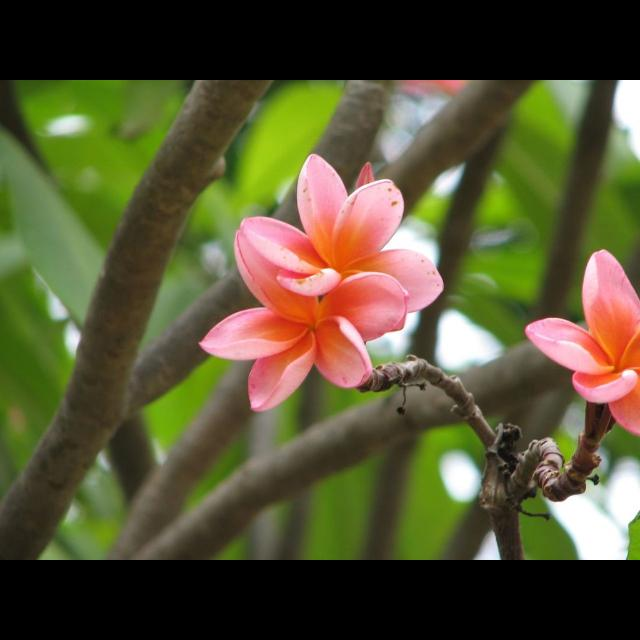Flower: (208, 164, 446, 408), (526, 244, 640, 432)
